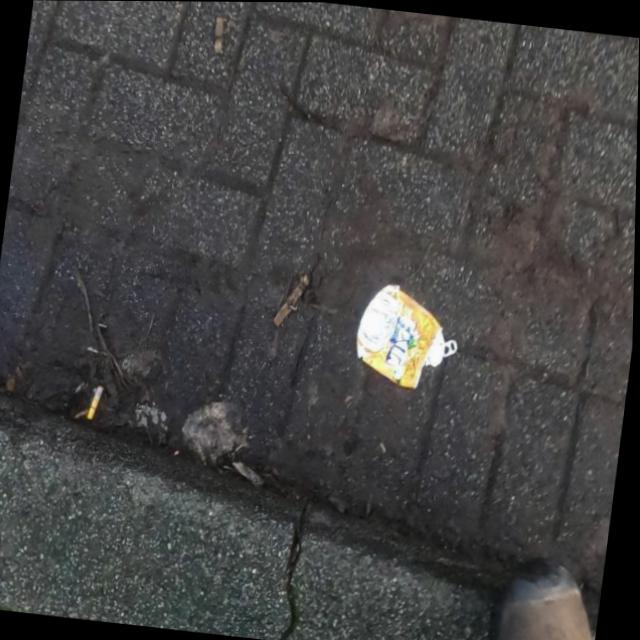Can-Metal: (350, 274, 467, 395)
